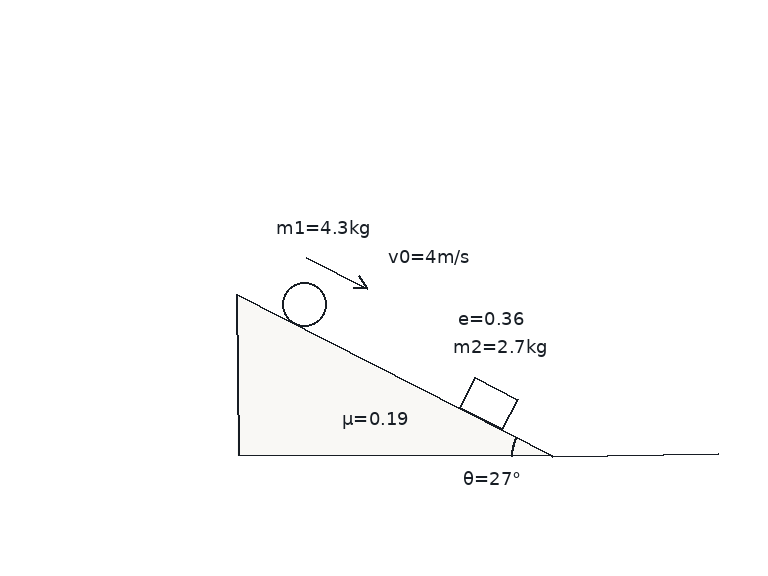ball: (280, 280, 328, 328)
block: (458, 376, 519, 431)
ramp: (235, 293, 554, 457)
